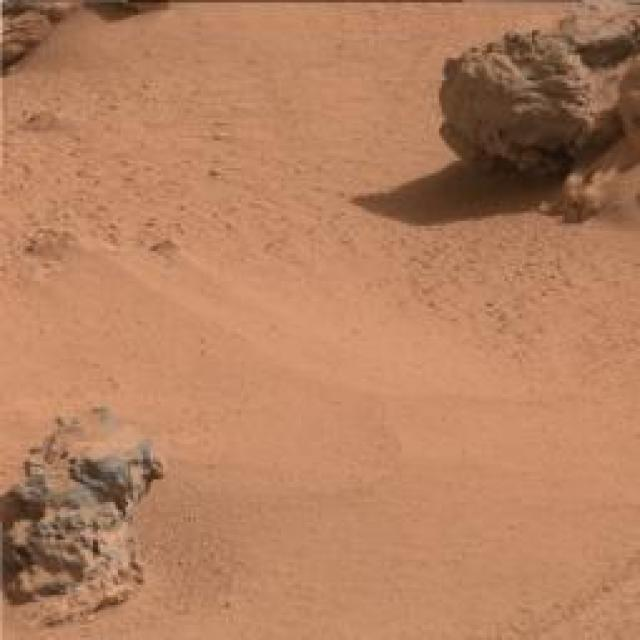rock: (0, 404, 161, 625), (436, 31, 598, 183), (556, 0, 640, 214), (0, 0, 78, 68)
